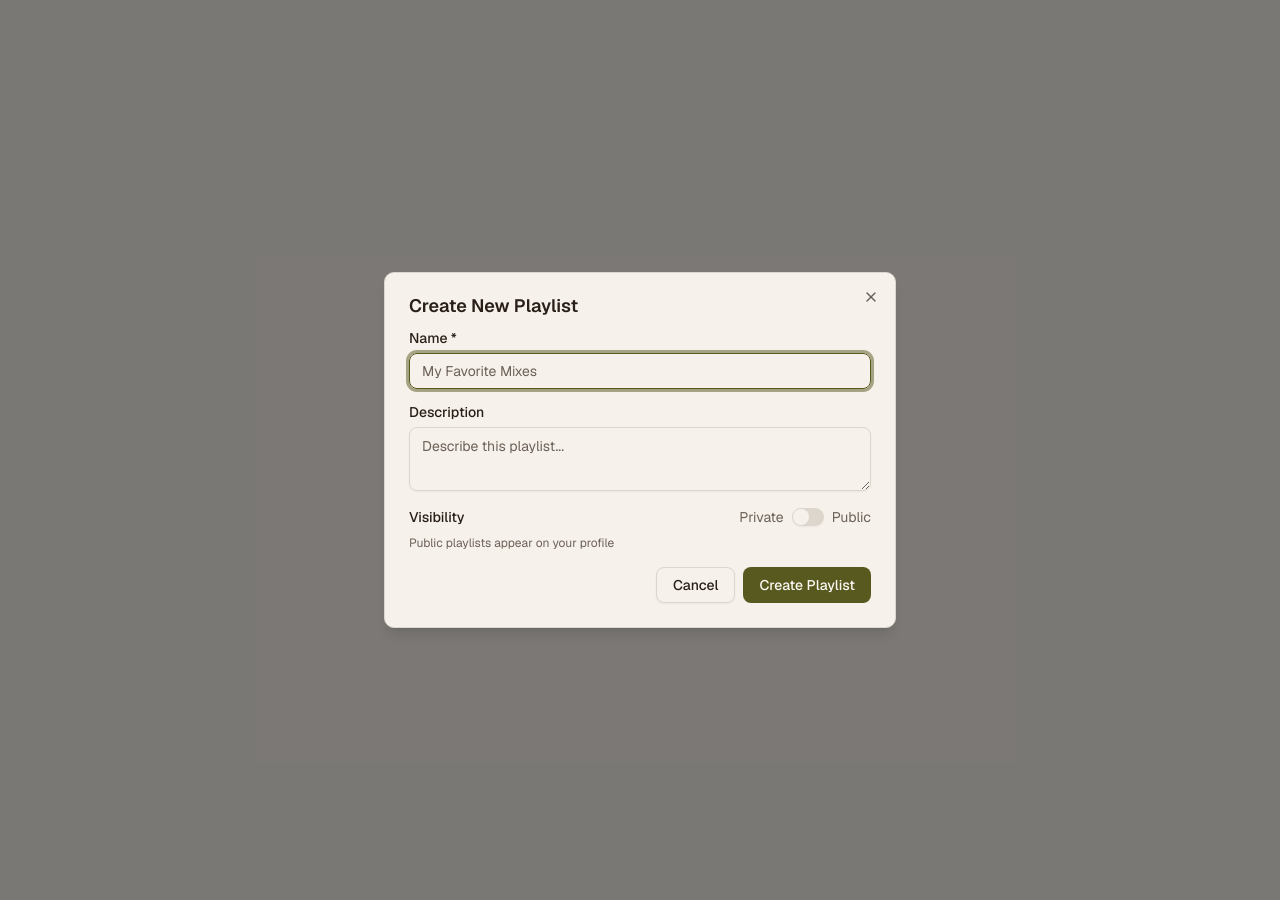
Scenario: CreatePlaylistDialog › should display error message on failure
Type "Test" into the field labelled "Name *" at x=640, y=371, box [409,353,871,389]
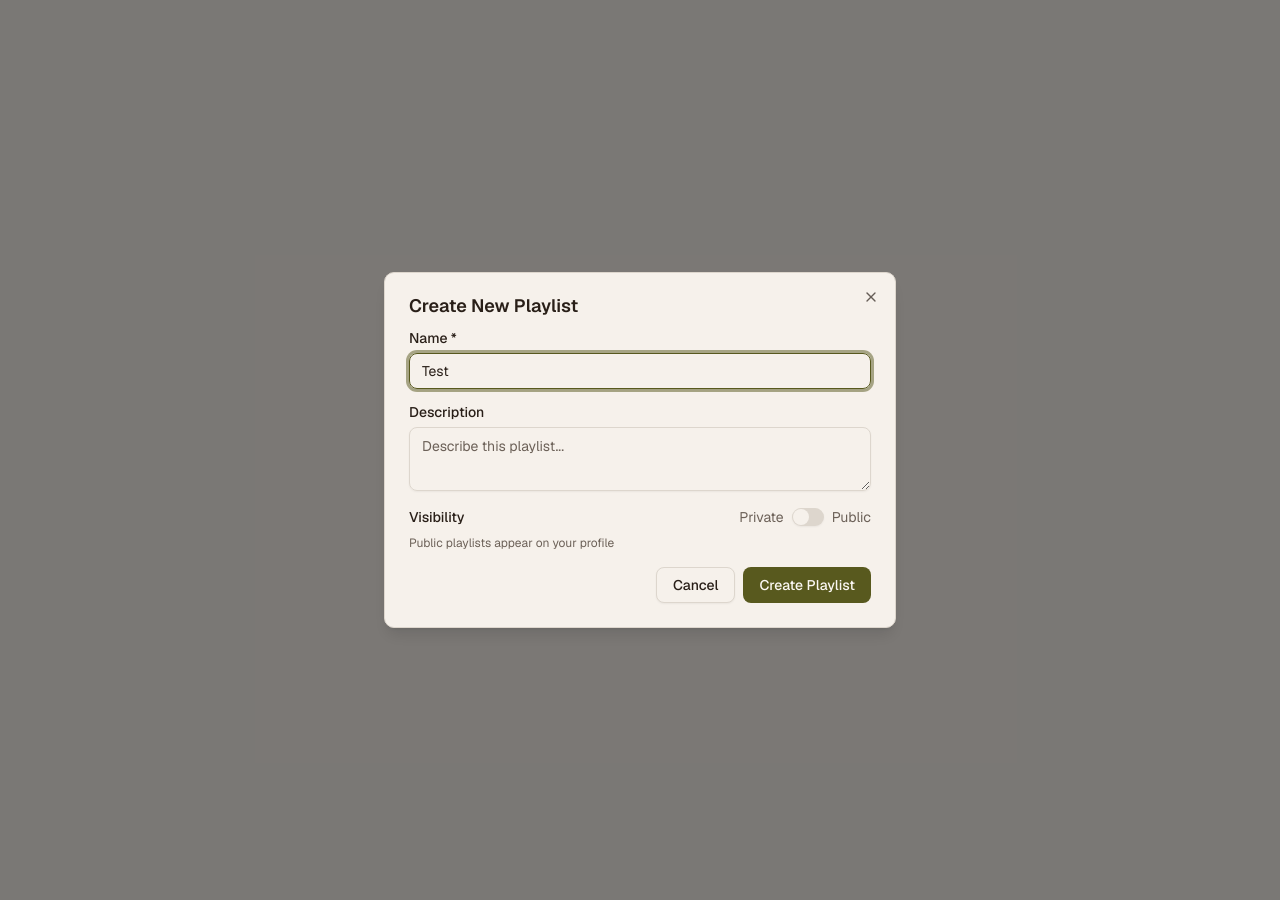
Click the button "Create Playlist" at x=807, y=585, box [744,567,871,603]
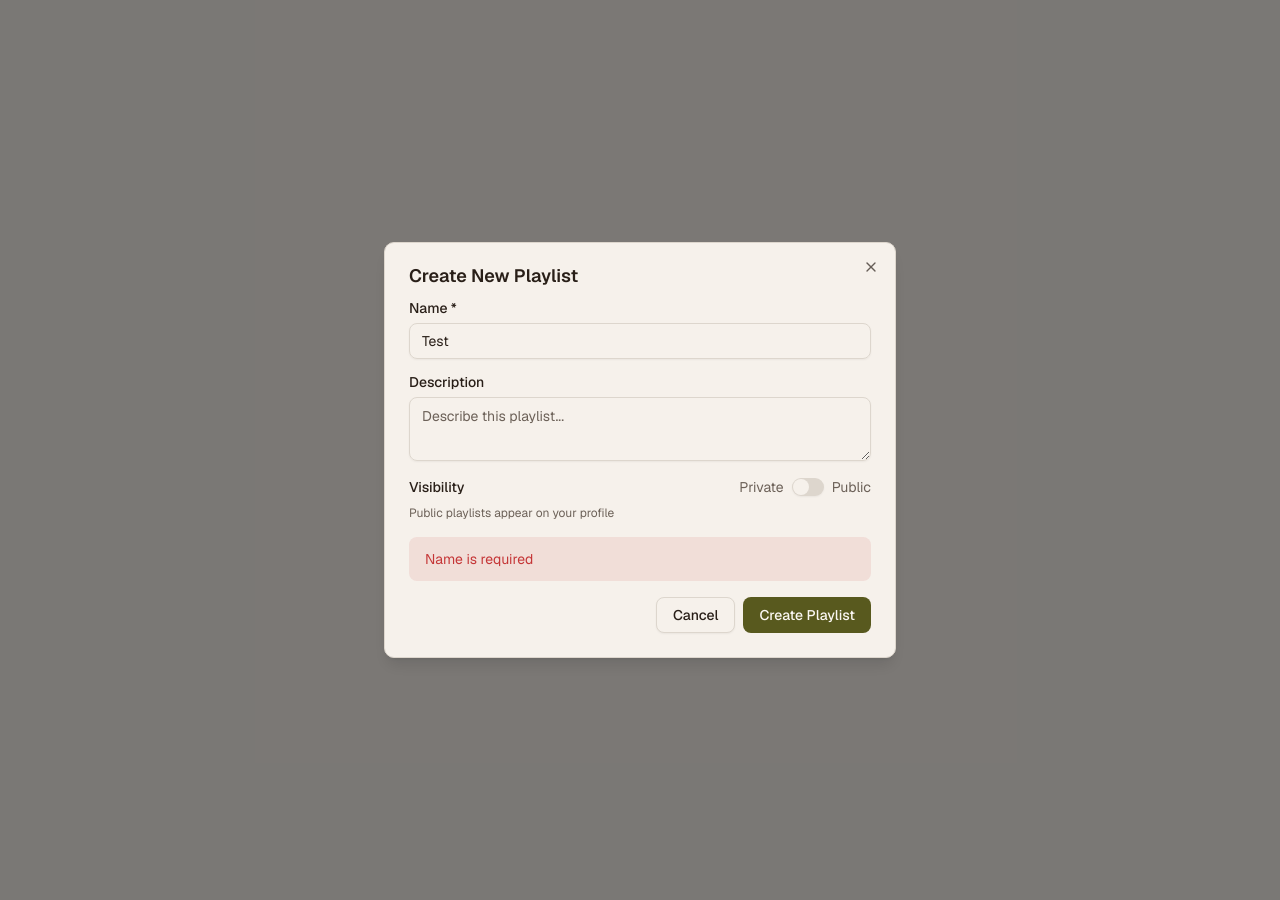
Check: the text "Name is required" is shown, box [409,537,871,581]
